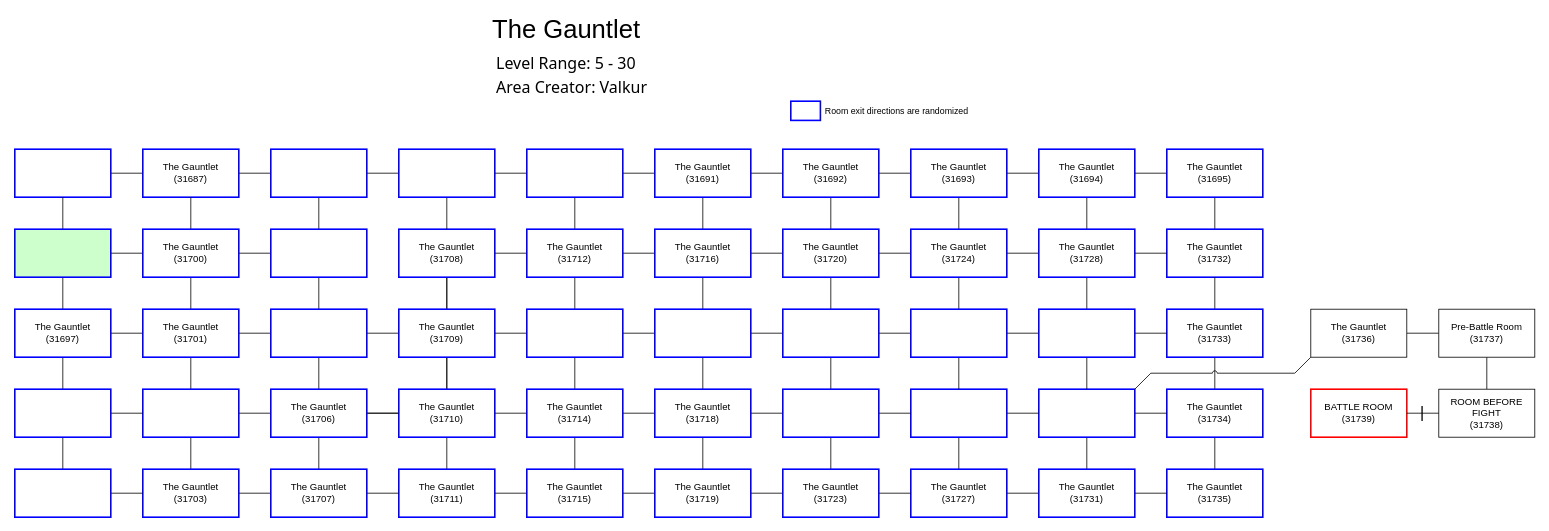
Some shapes in this 1549 by 531 pixel diagram are drawn without their labels. The shapes that lost their labels are listed below. From the top down, each one's box as (x1, y1, x2, y2) in pixels, then its label:
(14, 148, 111, 198): The Gauntlet (31686)
(270, 148, 367, 198): The Gauntlet (31688)
(398, 148, 495, 198): The Gauntlet (31689)
(526, 148, 623, 198): The Gauntlet (31690)
(14, 228, 111, 278): The Gauntlet (31696)
(270, 228, 367, 278): The Gauntlet (31704)
(270, 308, 367, 358): The Gauntlet (31705)
(526, 308, 623, 358): The Gauntlet (31713)
(654, 308, 751, 358): The Gauntlet (31717)
(782, 308, 879, 358): The Gauntlet (31721)
(910, 308, 1007, 358): The Gauntlet (31725)
(1038, 308, 1135, 358): The Gauntlet (31729)
(14, 388, 111, 438): The Gauntlet (31698)
(142, 388, 239, 438): The Gauntlet (31702)
(782, 388, 879, 438): The Gauntlet (31722)
(910, 388, 1007, 438): The Gauntlet (31726)
(1038, 388, 1135, 438): The Gauntlet (31730)
(14, 468, 111, 518): The Gauntlet (31699)
